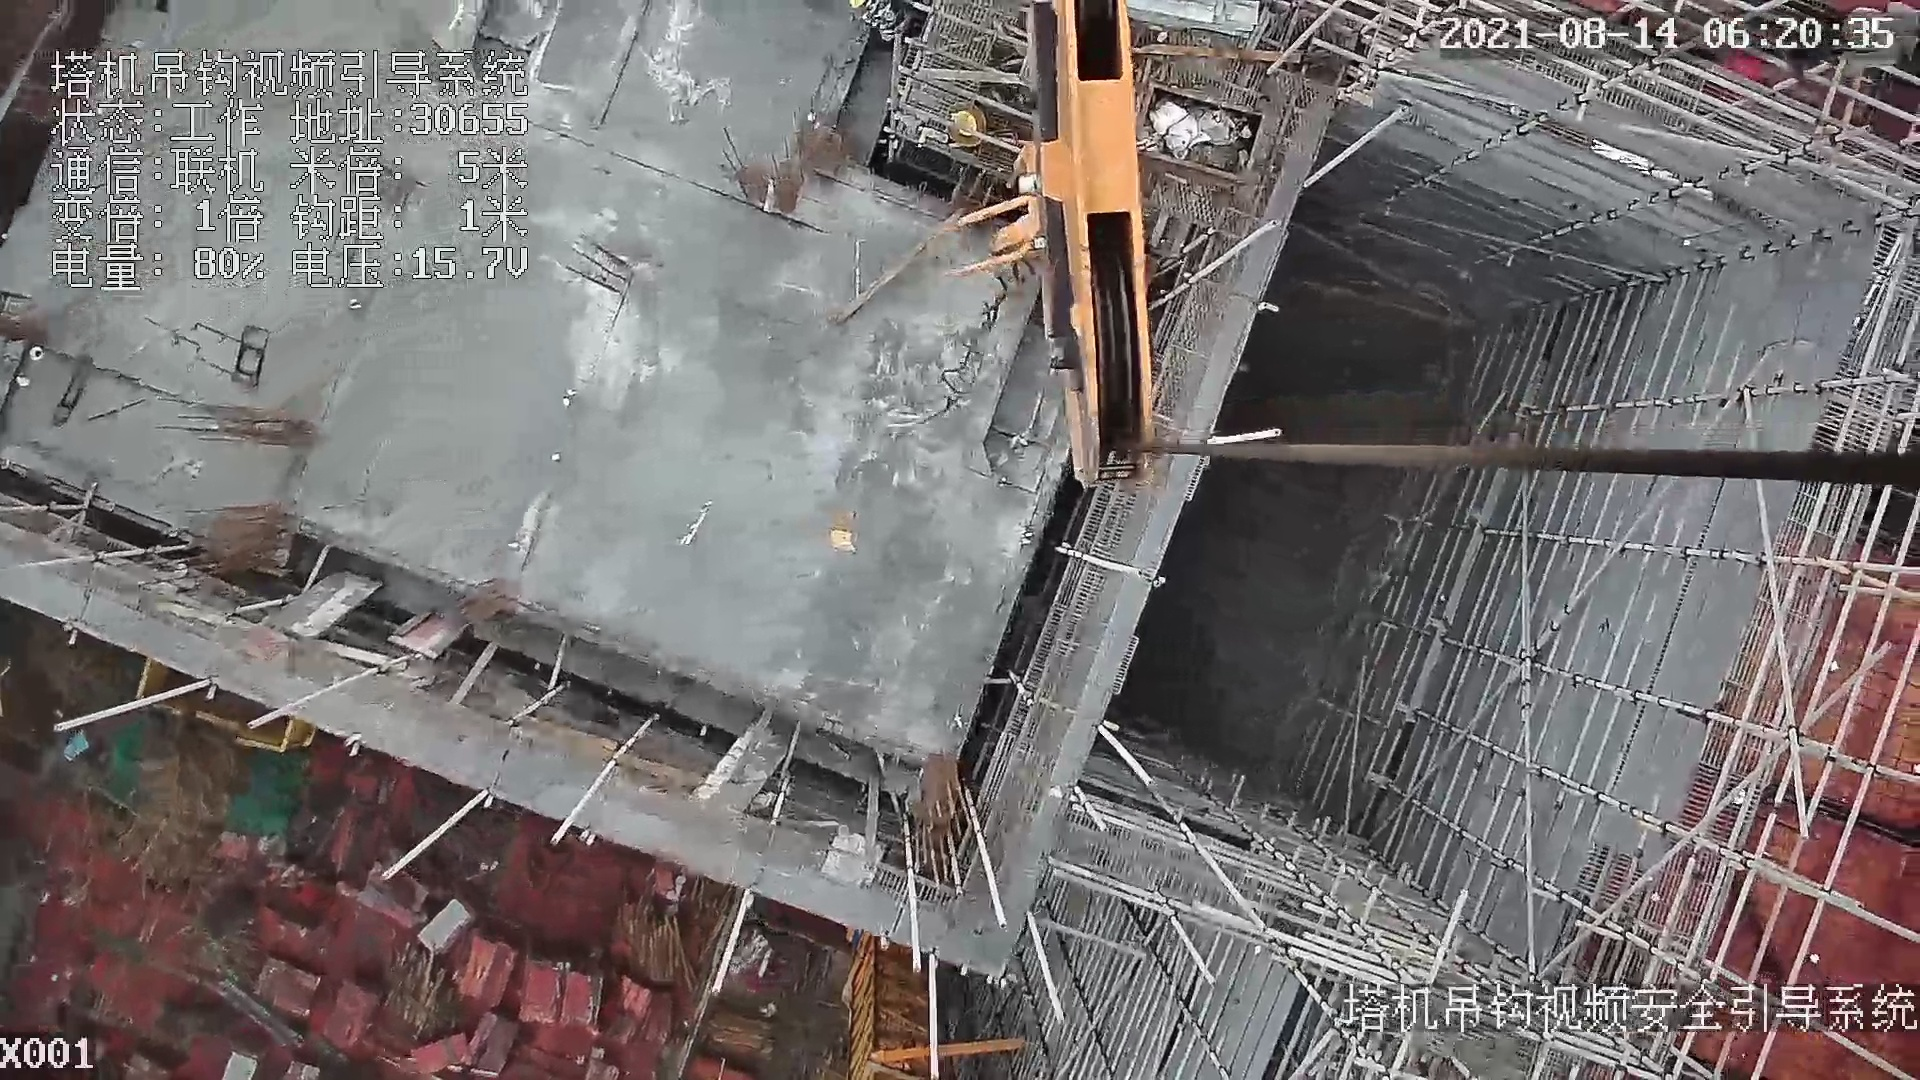hook: (932, 7, 1164, 473)
